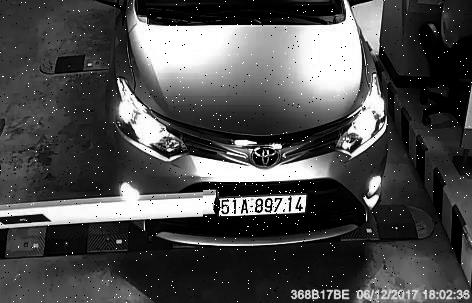License-plate: (205, 184, 317, 226)
